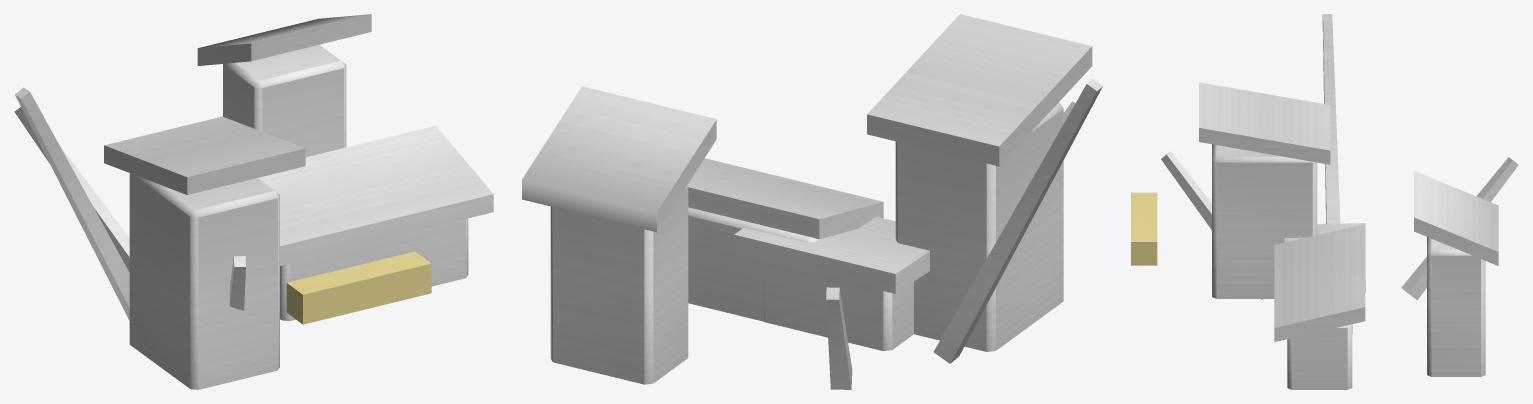
File: ship_chunk_2.obj
3 views of the same model, side by side, from view 1: azimuth 30°, elevation 25°; view 2: azimuth 150°, elevation 25°; view 3: azimuth 270°, elevation 25° (orthographic). The views are drawn at different scales.
Visible parts, largest first — view 1: debris_block_15, retained_30, debris_block_5, retained_10, retained_70, debris_block_35, retained_50, retained_0, retained_40, retained_60; view 2: debris_block_15, debris_block_5, retained_10, retained_0, retained_30, retained_20, debris_block_25, debris_block_35, retained_50, retained_40; view 3: debris_block_15, retained_30, retained_10, debris_block_5, retained_0, debris_block_35, retained_50, retained_70, retained_40, retained_60, retained_20.
Boxes of the visible parts, bbox=[...] form: debris_block_15: bbox=[129, 173, 279, 389]; retained_30: bbox=[258, 125, 493, 264]; debris_block_5: bbox=[223, 44, 346, 157]; retained_10: bbox=[104, 116, 305, 194]; retained_70: bbox=[286, 251, 431, 324]; debris_block_35: bbox=[280, 218, 468, 321]; retained_50: bbox=[15, 87, 129, 320]; retained_0: bbox=[197, 14, 371, 65]; retained_40: bbox=[14, 107, 129, 272]; retained_60: bbox=[229, 256, 245, 310]; debris_block_15: bbox=[895, 102, 1063, 351]; debris_block_5: bbox=[550, 185, 688, 384]; retained_10: bbox=[867, 14, 1092, 166]; retained_0: bbox=[522, 86, 716, 232]; retained_30: bbox=[687, 158, 883, 239]; retained_20: bbox=[734, 216, 929, 293]; debris_block_25: bbox=[764, 262, 913, 350]; debris_block_35: bbox=[688, 207, 820, 321]; retained_50: bbox=[933, 79, 1102, 363]; retained_40: bbox=[826, 287, 852, 389]; debris_block_15: bbox=[1212, 144, 1317, 298]; retained_30: bbox=[1274, 224, 1365, 341]; retained_10: bbox=[1199, 82, 1330, 164]; debris_block_5: bbox=[1427, 237, 1485, 376]; retained_0: bbox=[1414, 171, 1498, 265]; debris_block_35: bbox=[1287, 324, 1352, 389]; retained_50: bbox=[1322, 14, 1340, 223]; retained_70: bbox=[1131, 192, 1157, 265]; retained_40: bbox=[1401, 157, 1518, 300]; retained_60: bbox=[1161, 151, 1262, 299]; retained_20: bbox=[1284, 223, 1365, 292].
Size of the model in its own units: 1.55 by 0.9269 by 1.49.
